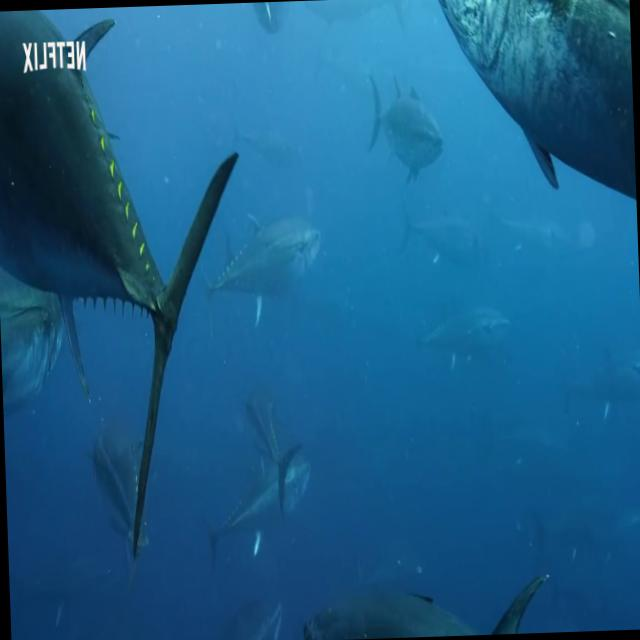fish: (0, 3, 237, 453), (199, 208, 322, 327), (366, 76, 441, 177)
